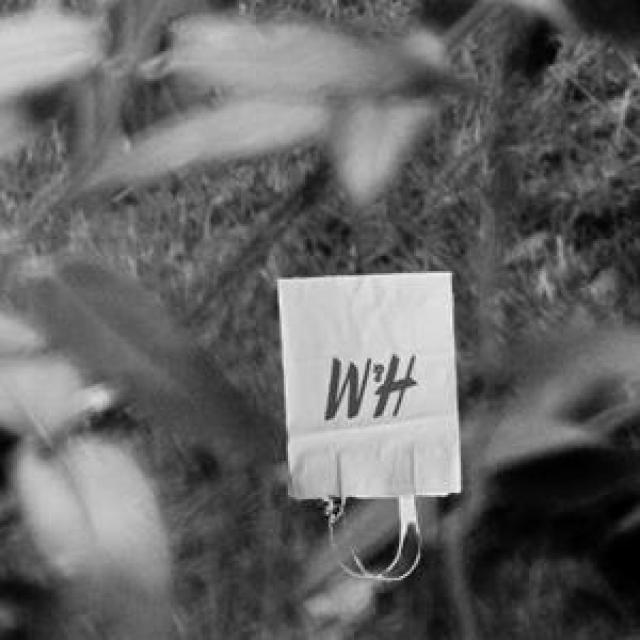paper: (274, 269, 457, 540)
